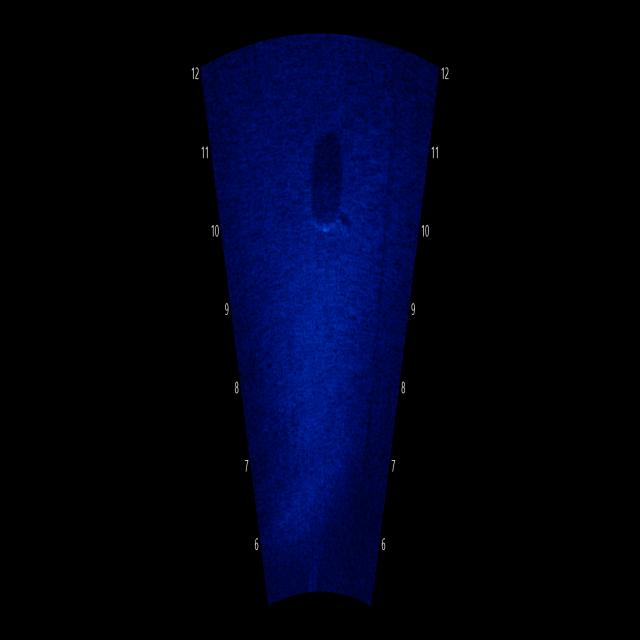circle: (306, 154, 350, 243)
